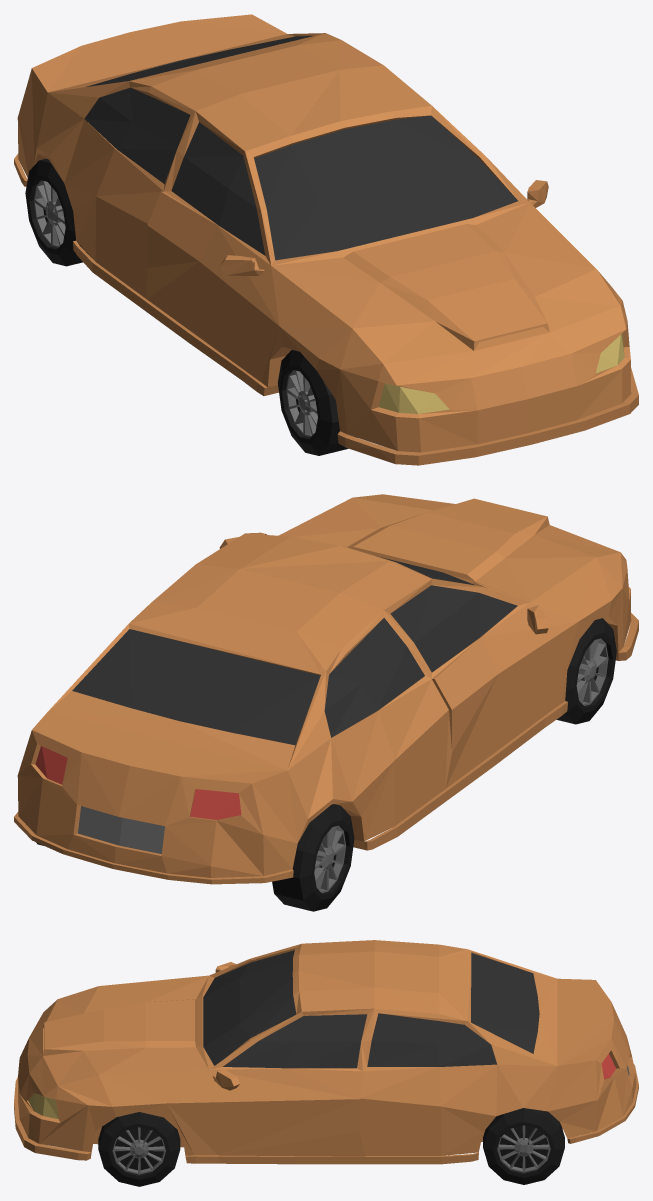
Rendered from sports-car.glb.
The picture shows the model from 3 angles, top to bottom: view 1: azimuth 30°, elevation 25°; view 2: azimuth 150°, elevation 25°; view 3: azimuth 270°, elevation 25°; orthographic projection. The views are drawn at different scales.
Parts seen in each view (by area): view 1: SportsCar_Cube.005; view 2: SportsCar_Cube.005; view 3: SportsCar_Cube.005.
Part boxes in pixels (x1=…): SportsCar_Cube.005: x1=14, y1=14, x2=638, y2=465; SportsCar_Cube.005: x1=14, y1=494, x2=638, y2=911; SportsCar_Cube.005: x1=14, y1=940, x2=638, y2=1186.
Size of the model in its own units: 1.8 by 1.16 by 3.97.
Materials: 1 (1 with a texture image).
